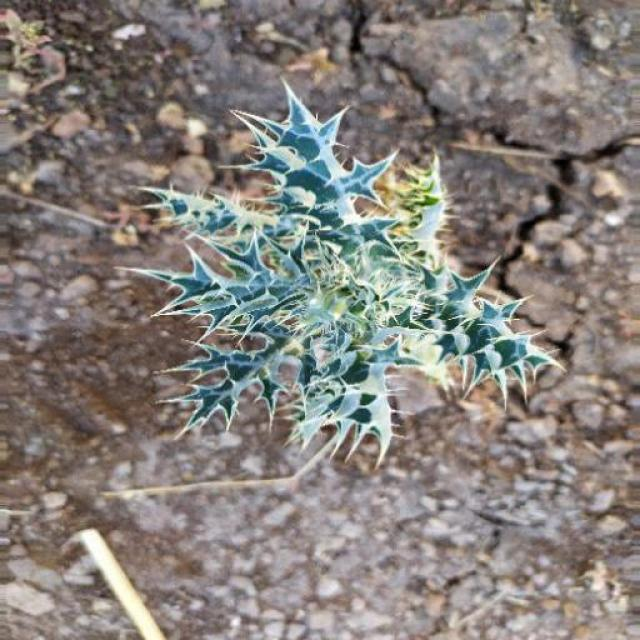weed: (132, 74, 562, 471)
